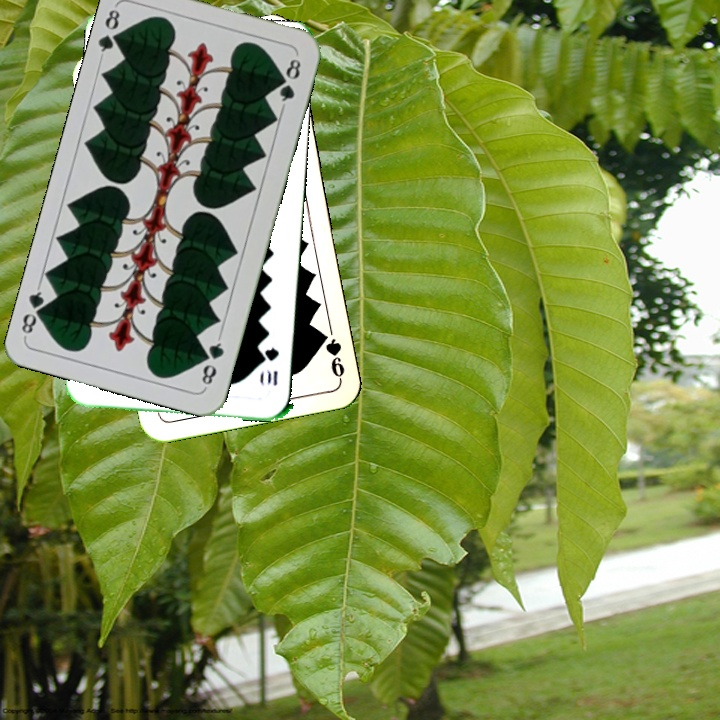G10: (260, 344, 281, 388)
G8: (94, 5, 127, 60), (197, 332, 227, 391)
G9: (318, 328, 347, 382)
